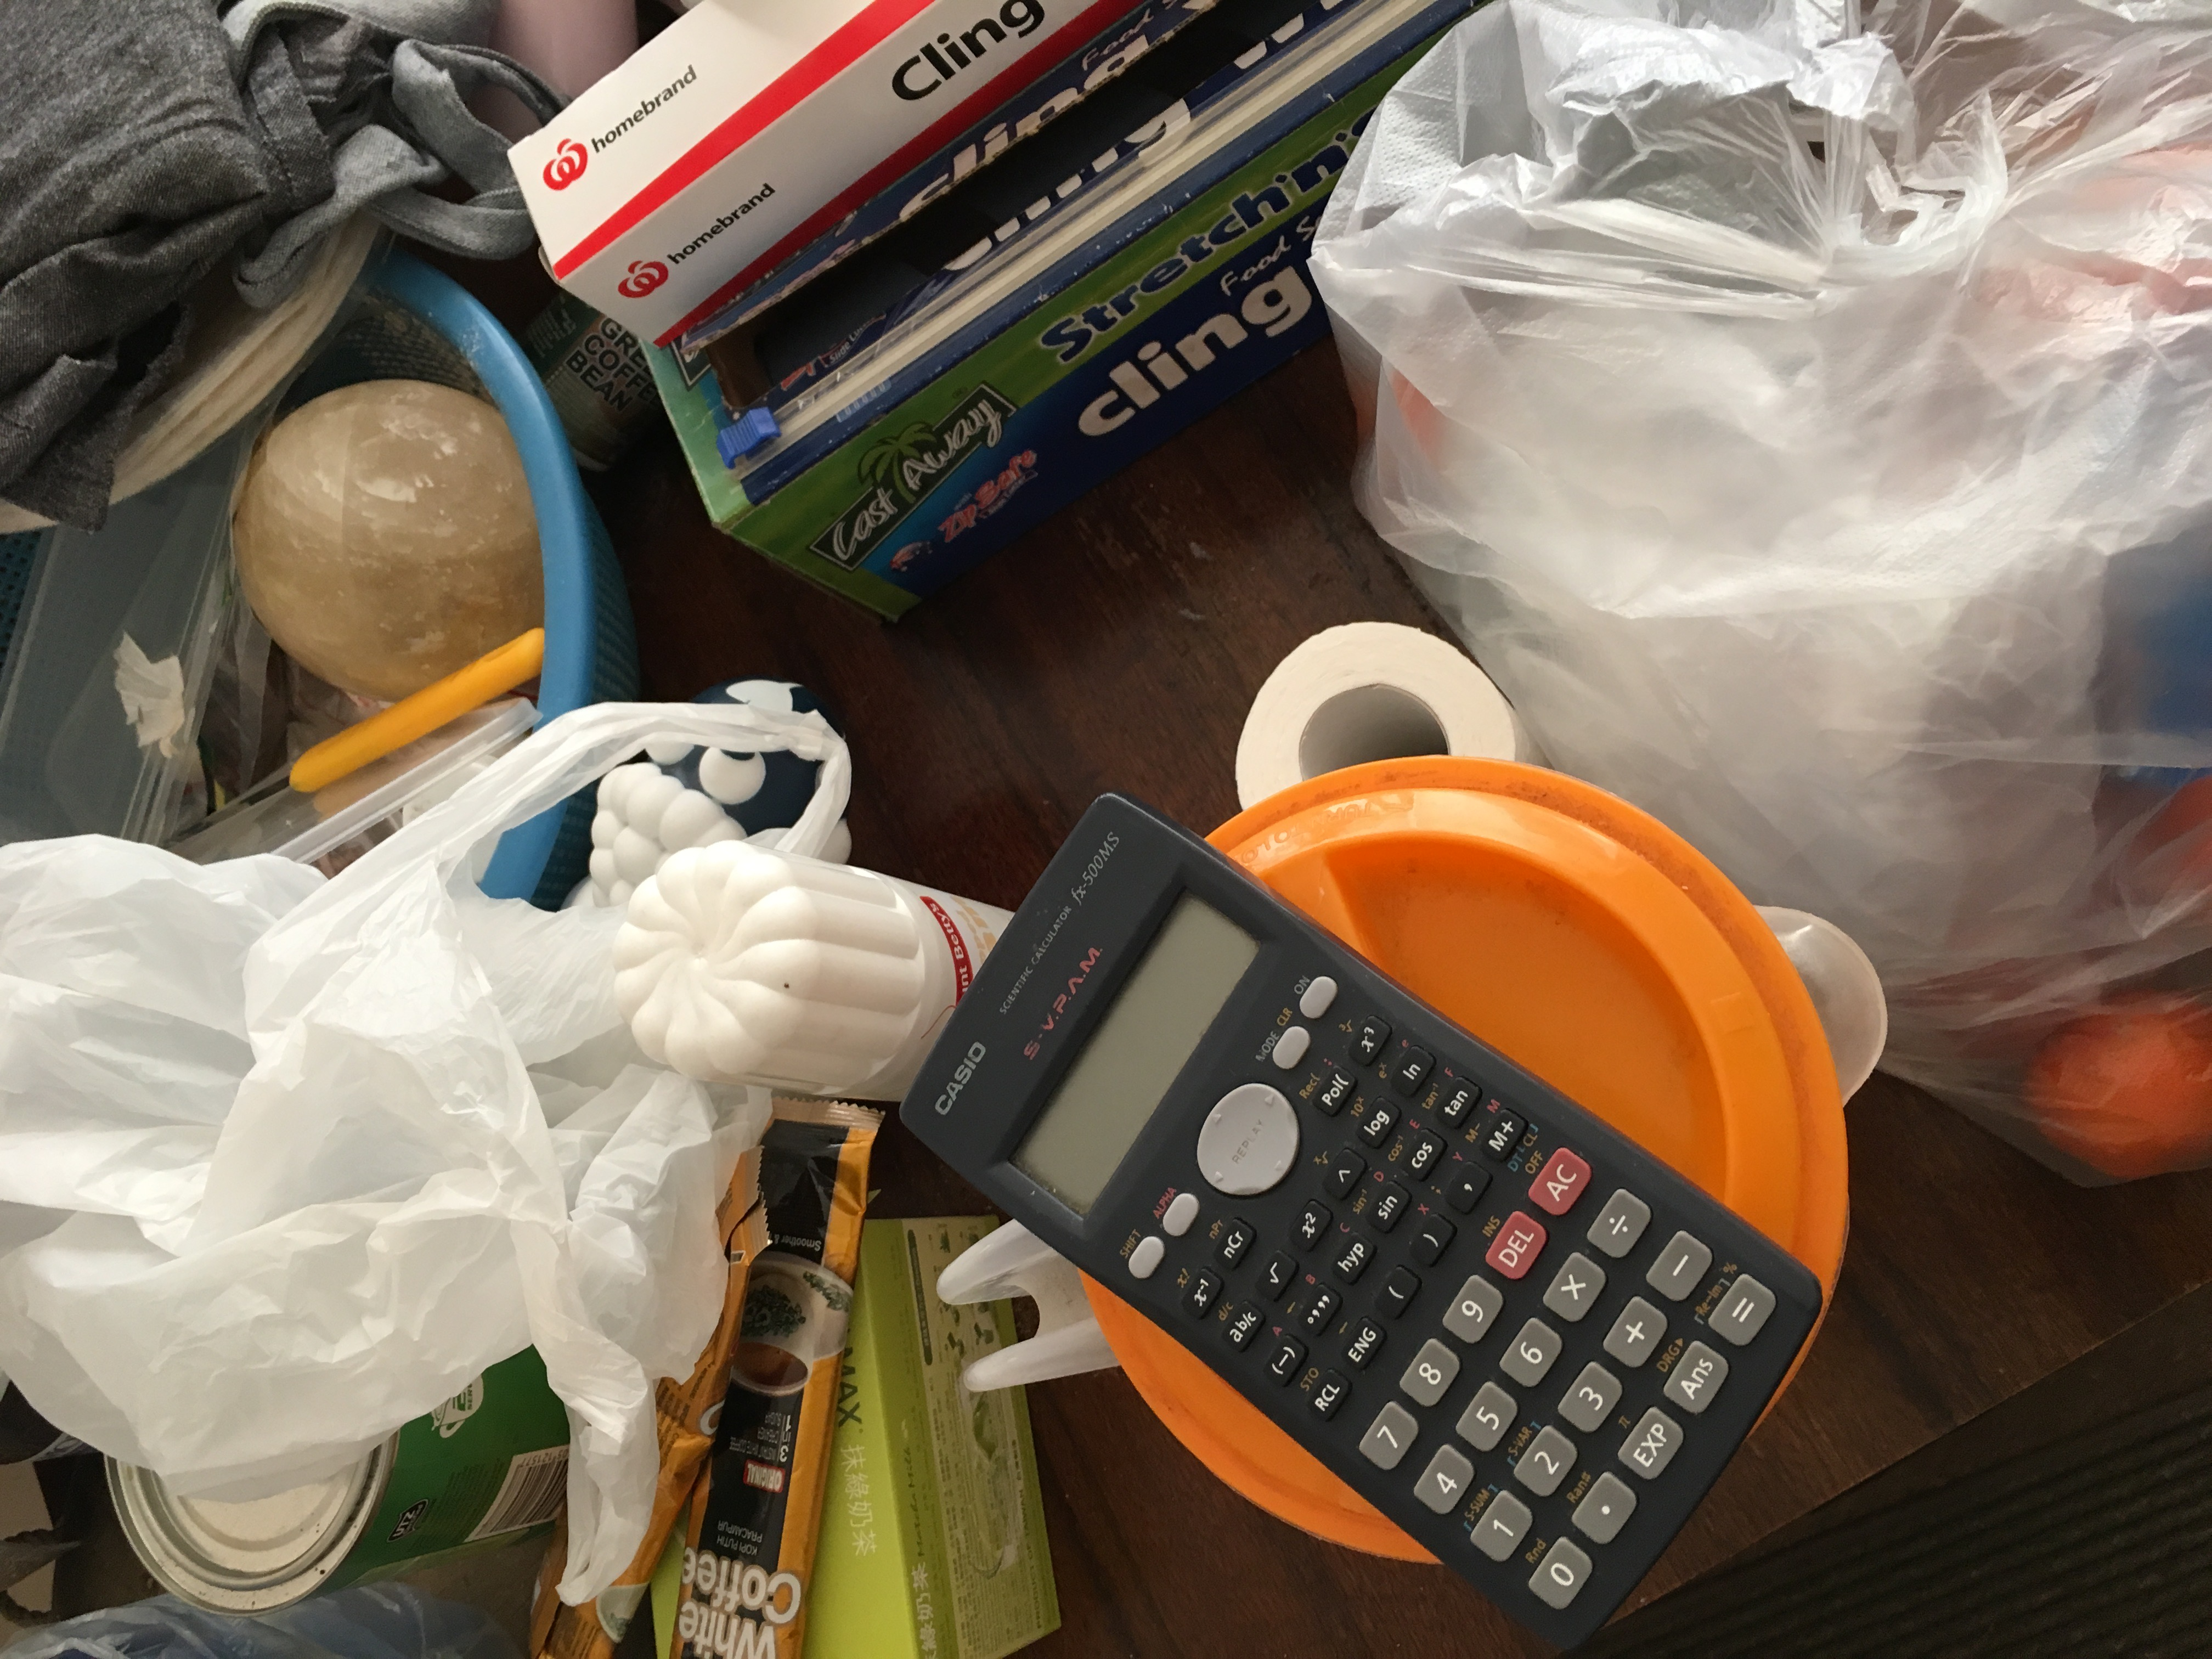Calculator: (894, 781, 1834, 1659)
